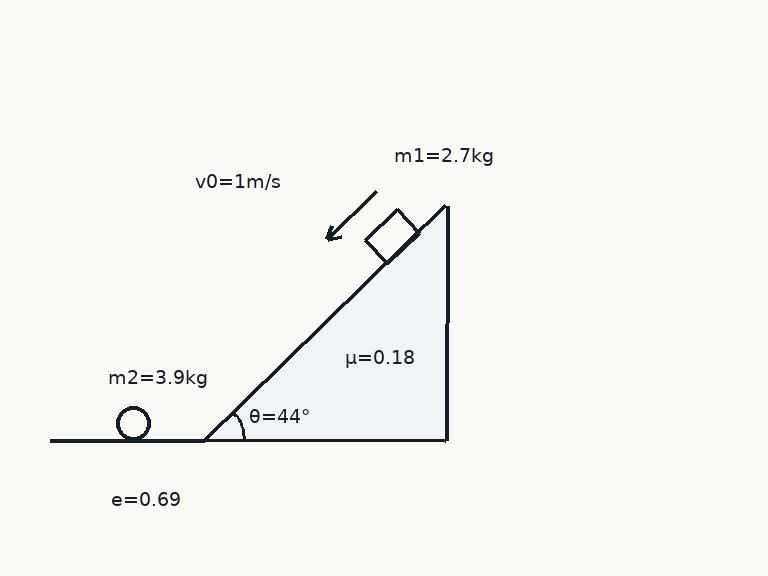ball: (114, 404, 152, 442)
block: (363, 207, 421, 265)
ramp: (202, 205, 448, 442)
